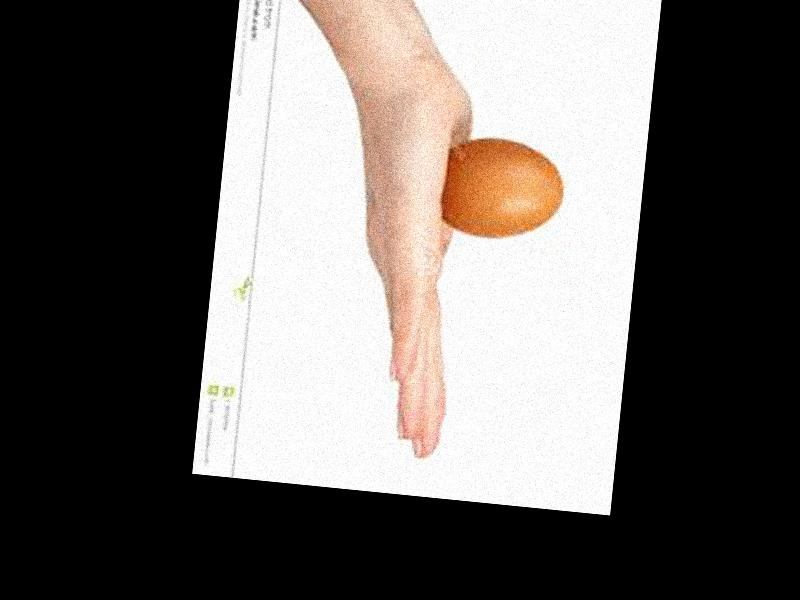Eggs: (435, 135, 567, 245)
